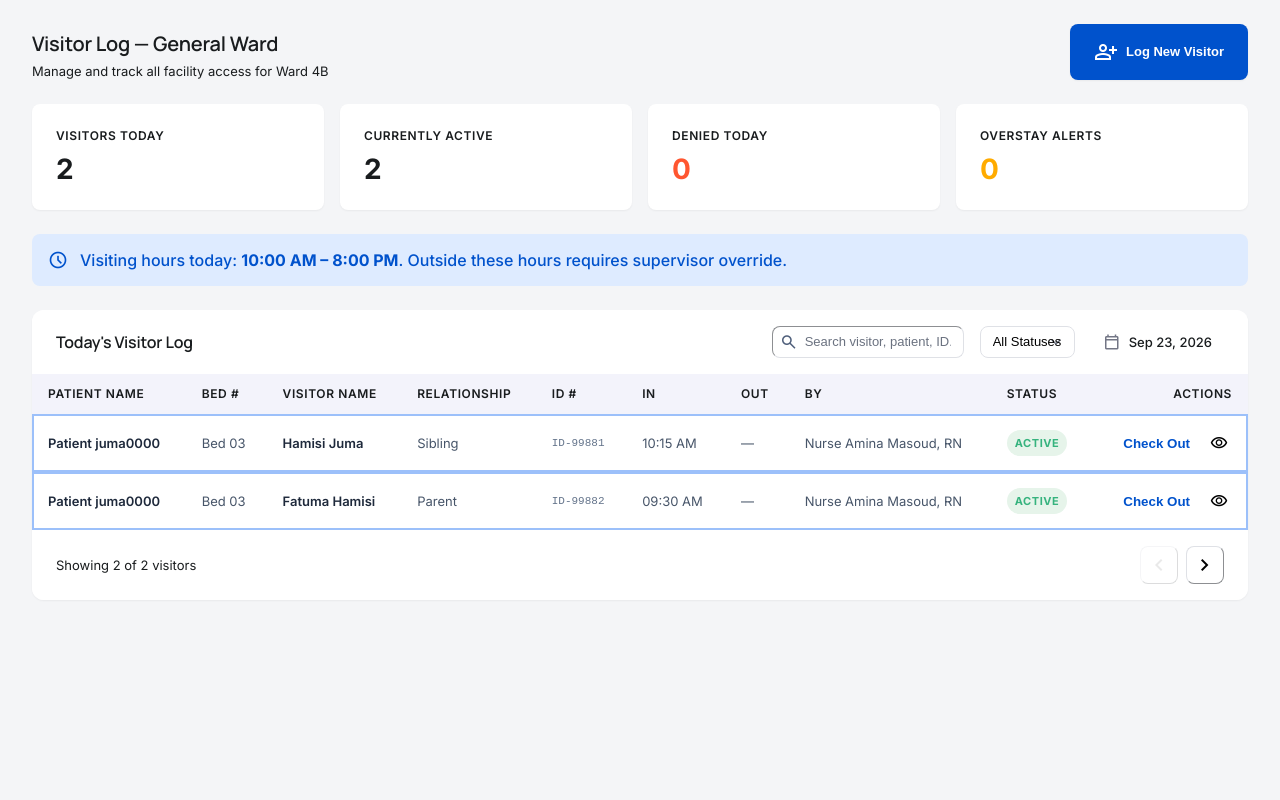
Test: VisitorLogPage › opens registration modal when log new visitor button is clicked
Check: the text "Hamisi Juma" is shown, box top-left (267, 414), bottom-right (401, 472)
What coordinates should you click on to do the following:
click the button "Log New Visitor"
I would click on:
 (1159, 52)
Its box is top-left (1070, 24), bottom-right (1248, 80).
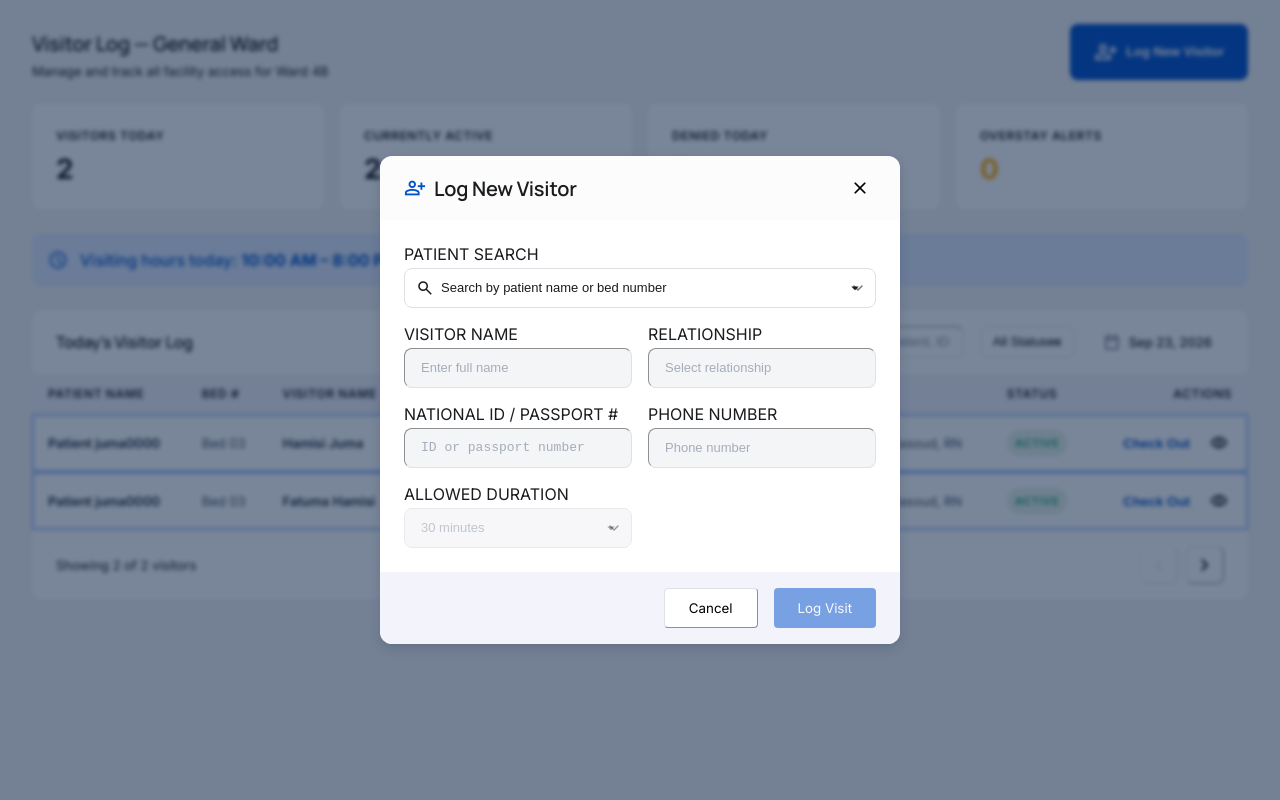
Check: the heading "Log New Visitor" is shown, box top-left (404, 177), bottom-right (577, 199)
